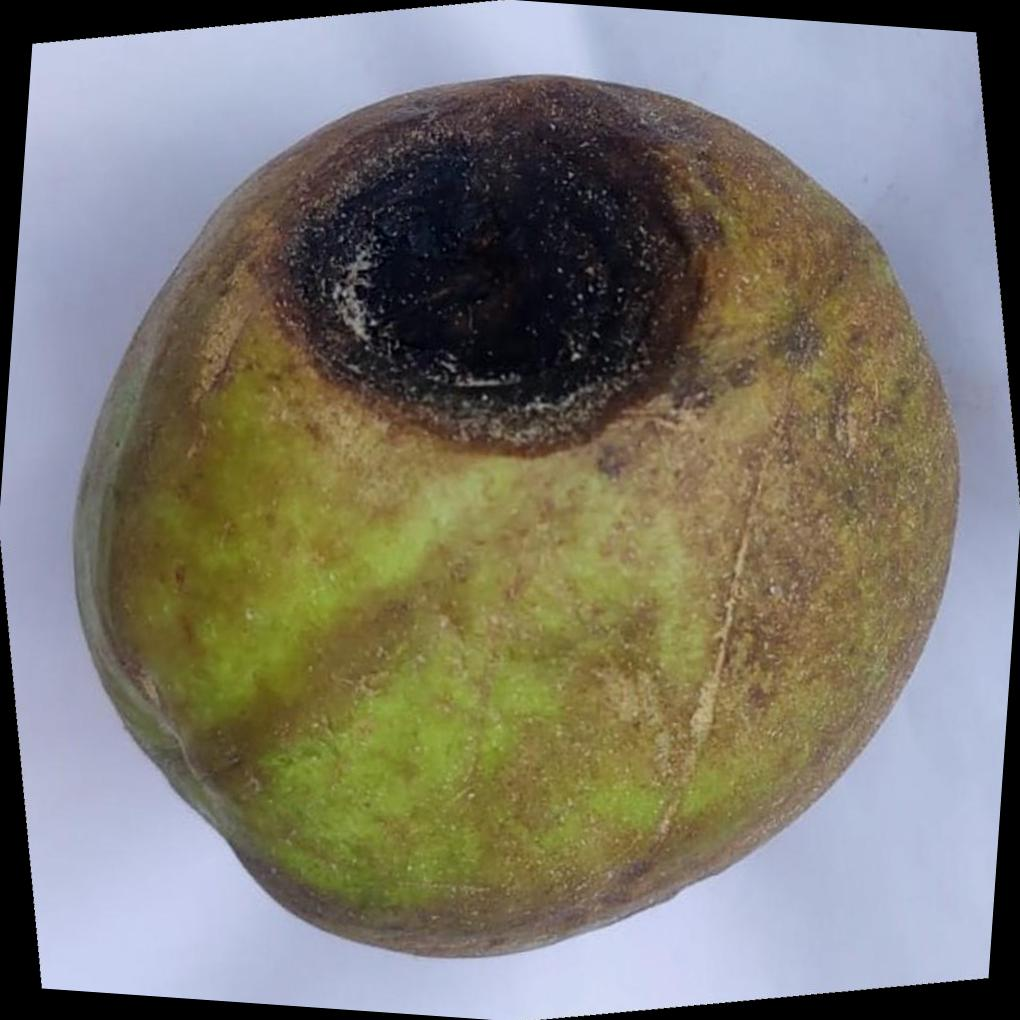FreshOrange: (70, 67, 963, 958)
